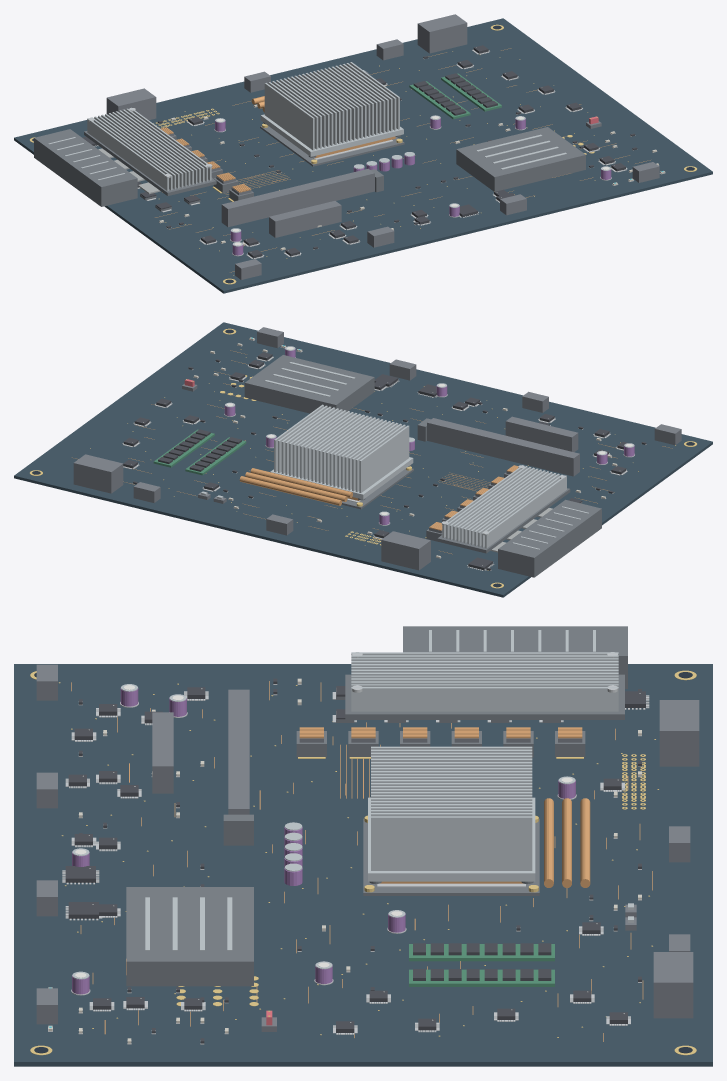
Rendered from ProjectSpark_Level110_PWR18_Complete_Assembled_Board.fbx.
3 renders of one model, top to bottom at view 1: azimuth 30°, elevation 25°; view 2: azimuth 150°, elevation 25°; view 3: azimuth 270°, elevation 25°, orthographic. The views are drawn at different scales.
Parts seen in each view (by area): view 1: L110_PWR18_Complete_Assembled_Board_PCB, L110_PWR18_Complete_Assembled_Board_ALUMINUM, L110_PWR18_Complete_Assembled_Board_DARK_METAL, L110_PWR18_Complete_Assembled_Board_POLYMER, L110_PWR18_Complete_Assembled_Board_EPOXY, L110_PWR18_Complete_Assembled_Board_COPPER, L110_PWR18_Complete_Assembled_Board_SOLDER, L110_PWR18_Complete_Assembled_Board_PURPLE, L110_PWR18_Complete_Assembled_Board_GREEN, L110_PWR18_Complete_Assembled_Board_GOLD; view 2: L110_PWR18_Complete_Assembled_Board_PCB, L110_PWR18_Complete_Assembled_Board_ALUMINUM, L110_PWR18_Complete_Assembled_Board_POLYMER, L110_PWR18_Complete_Assembled_Board_DARK_METAL, L110_PWR18_Complete_Assembled_Board_EPOXY, L110_PWR18_Complete_Assembled_Board_COPPER, L110_PWR18_Complete_Assembled_Board_SOLDER, L110_PWR18_Complete_Assembled_Board_GREEN, L110_PWR18_Complete_Assembled_Board_PURPLE, L110_PWR18_Complete_Assembled_Board_GOLD; view 3: L110_PWR18_Complete_Assembled_Board_PCB, L110_PWR18_Complete_Assembled_Board_ALUMINUM, L110_PWR18_Complete_Assembled_Board_DARK_METAL, L110_PWR18_Complete_Assembled_Board_POLYMER, L110_PWR18_Complete_Assembled_Board_EPOXY, L110_PWR18_Complete_Assembled_Board_COPPER, L110_PWR18_Complete_Assembled_Board_SOLDER, L110_PWR18_Complete_Assembled_Board_GREEN, L110_PWR18_Complete_Assembled_Board_PURPLE, L110_PWR18_Complete_Assembled_Board_GOLD.
Part boxes in pixels (x1,y1,x2,y2): L110_PWR18_Complete_Assembled_Board_PCB: (14,18,712,293); L110_PWR18_Complete_Assembled_Board_ALUMINUM: (48,62,611,246); L110_PWR18_Complete_Assembled_Board_DARK_METAL: (34,122,585,211); L110_PWR18_Complete_Assembled_Board_POLYMER: (106,14,659,279); L110_PWR18_Complete_Assembled_Board_EPOXY: (82,45,637,258); L110_PWR18_Complete_Assembled_Board_COPPER: (155,48,650,272); L110_PWR18_Complete_Assembled_Board_SOLDER: (88,49,665,258); L110_PWR18_Complete_Assembled_Board_PURPLE: (215,118,611,255); L110_PWR18_Complete_Assembled_Board_GREEN: (409,73,501,119); L110_PWR18_Complete_Assembled_Board_GOLD: (30,24,696,284); L110_PWR18_Complete_Assembled_Board_PCB: (14,322,712,597); L110_PWR18_Complete_Assembled_Board_ALUMINUM: (201,346,634,549); L110_PWR18_Complete_Assembled_Board_POLYMER: (73,327,681,570); L110_PWR18_Complete_Assembled_Board_DARK_METAL: (244,355,601,577); L110_PWR18_Complete_Assembled_Board_EPOXY: (123,352,646,570); L110_PWR18_Complete_Assembled_Board_COPPER: (72,350,672,554); L110_PWR18_Complete_Assembled_Board_SOLDER: (122,339,646,570); L110_PWR18_Complete_Assembled_Board_GREEN: (153,429,246,475); L110_PWR18_Complete_Assembled_Board_PURPLE: (224,348,634,524); L110_PWR18_Complete_Assembled_Board_GOLD: (30,328,696,588); L110_PWR18_Complete_Assembled_Board_PCB: (14,664,712,1066); L110_PWR18_Complete_Assembled_Board_ALUMINUM: (72,630,633,979); L110_PWR18_Complete_Assembled_Board_DARK_METAL: (126,626,627,986); L110_PWR18_Complete_Assembled_Board_POLYMER: (36,664,699,1031); L110_PWR18_Complete_Assembled_Board_EPOXY: (65,678,645,1043); L110_PWR18_Complete_Assembled_Board_COPPER: (71,681,652,1041); L110_PWR18_Complete_Assembled_Board_SOLDER: (48,652,649,1044); L110_PWR18_Complete_Assembled_Board_GREEN: (409,944,554,986); L110_PWR18_Complete_Assembled_Board_PURPLE: (72,688,575,994); L110_PWR18_Complete_Assembled_Board_GOLD: (30,670,696,1055).
Bounding box in the file's own units: 31.35 × 2.96 × 23.
